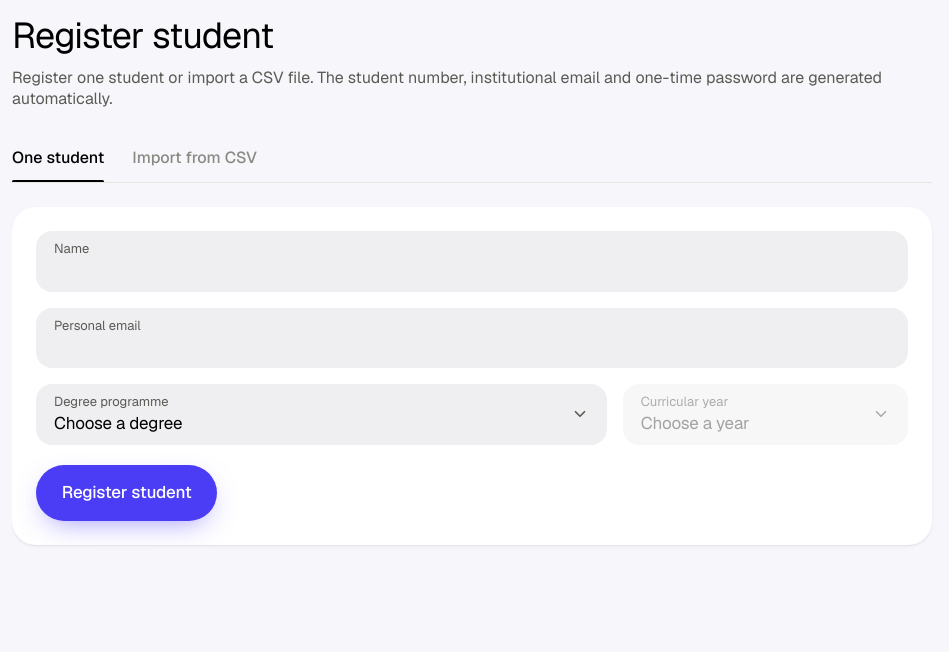
Test: register one student › highlights the missing fields the backend reports
Click the button "Register student" at (127,493), box [36,465,217,521]
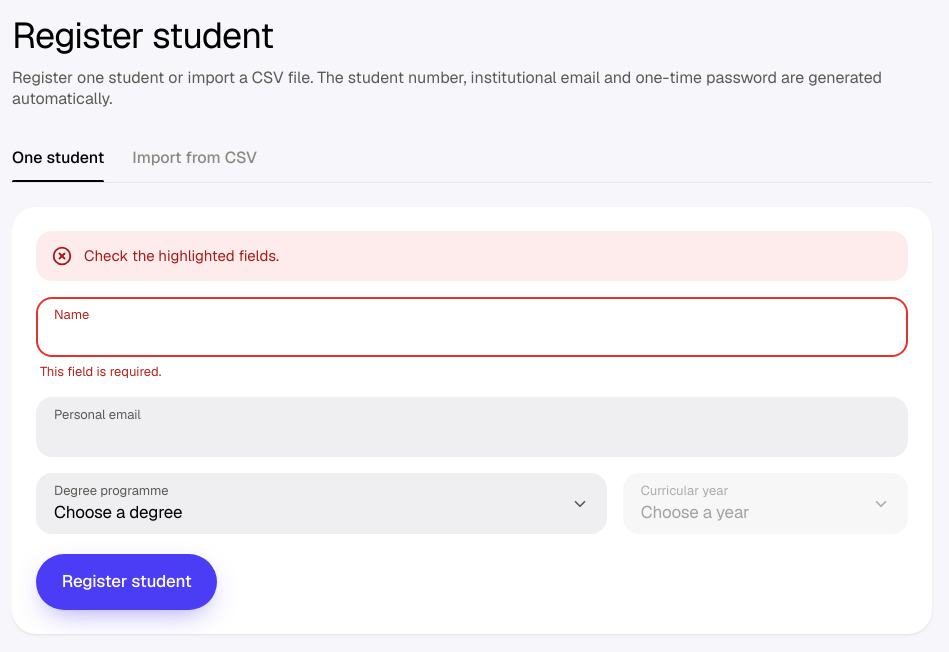
Expected: the text "This field is required." is shown, [40,363,161,381]
